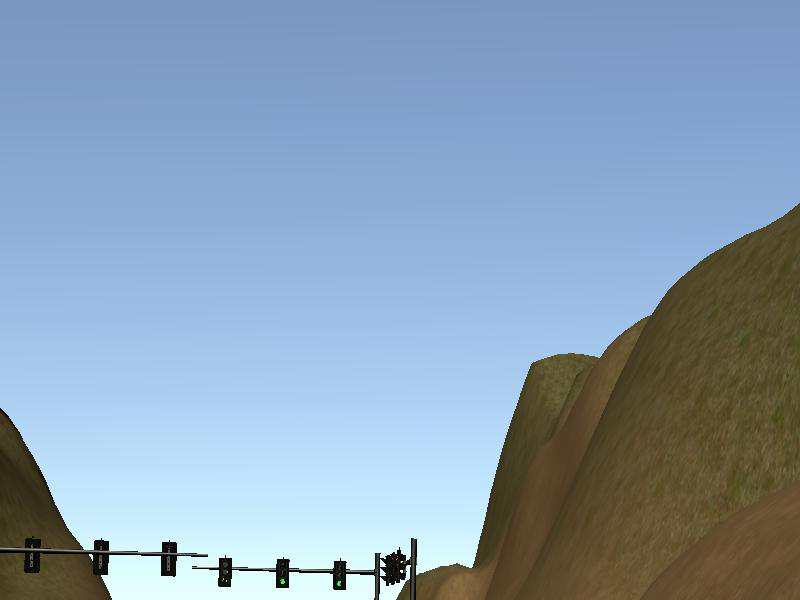green: (334, 558, 347, 590), (220, 556, 233, 587), (277, 559, 289, 588)
